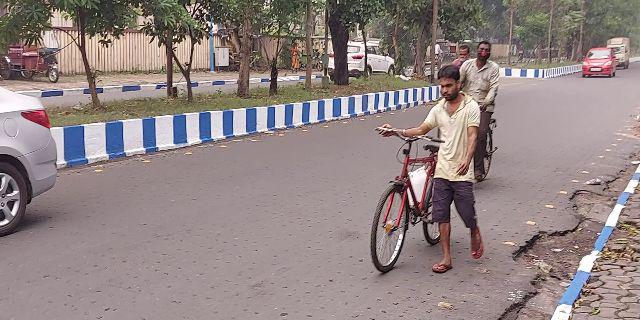Car: (1, 78, 66, 236), (576, 44, 621, 81)
Cycle: (369, 63, 490, 304)
